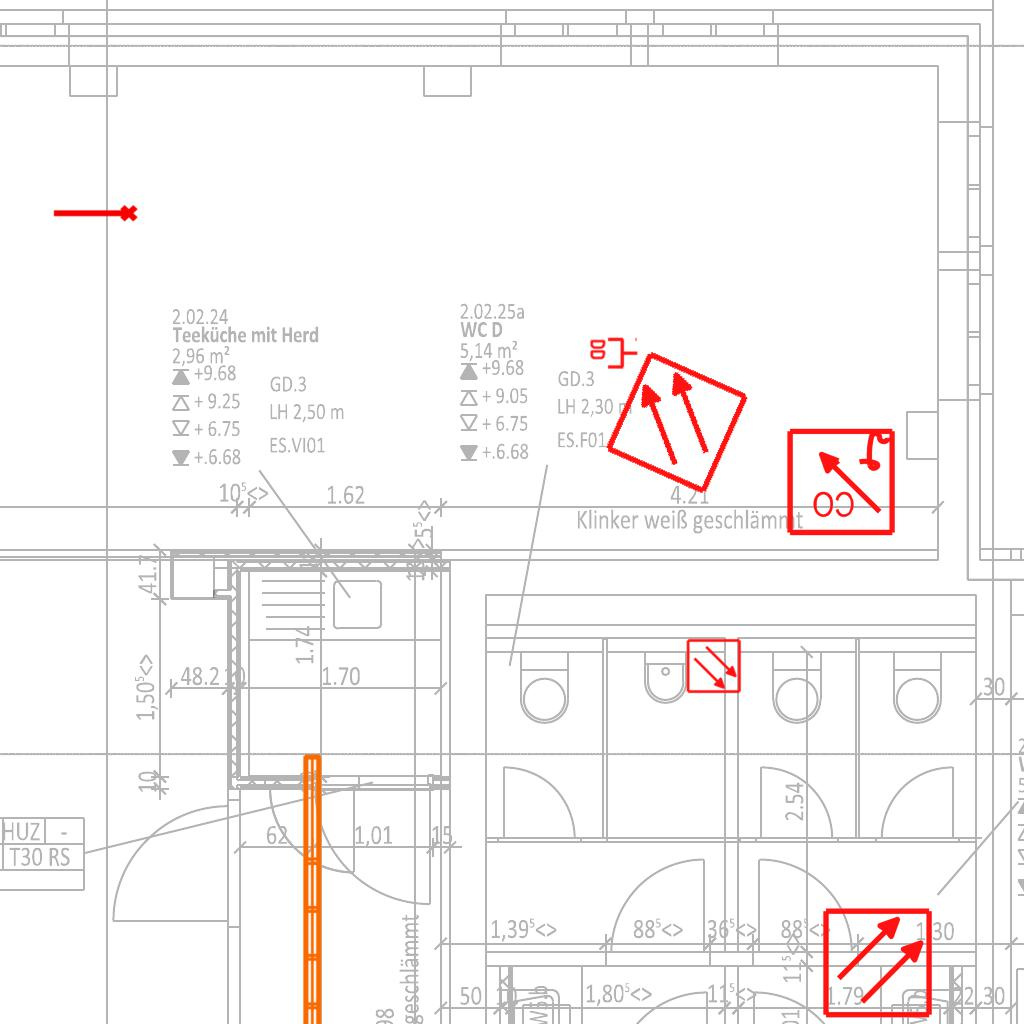ASR_Ansaugoeffnung: (51, 203, 139, 226)
Ambulanz_Pendelleuchte_LED: (297, 749, 353, 1024)
Datenanschluss_zweifach: (588, 337, 639, 371)
RMO_Rauchmelder_optischer: (601, 347, 752, 498), (821, 906, 934, 1019), (686, 638, 742, 694)
ROA_Rauchmelder_optisch_mit_Signalgeber_(Sockelsirene): (784, 424, 897, 537)
